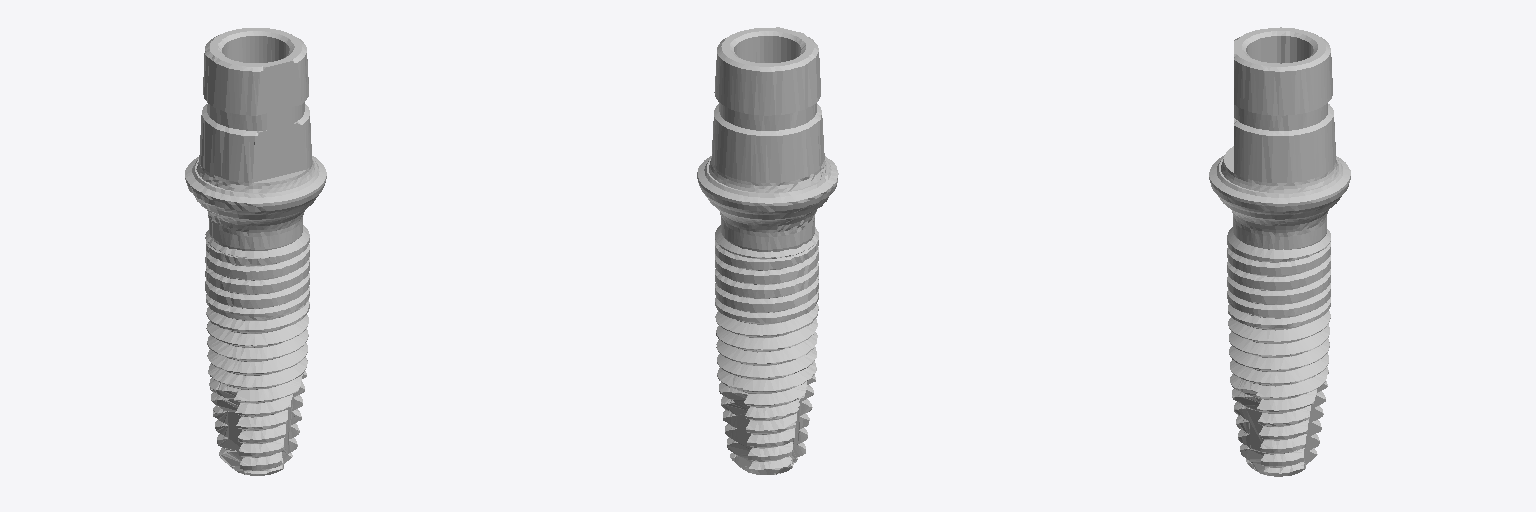
Rendered from screw.obj.
3 renders of one model, left to right at view 1: azimuth 30°, elevation 25°; view 2: azimuth 150°, elevation 25°; view 3: azimuth 270°, elevation 25°, orthographic.
Visible parts, largest first — view 1: screw; view 2: screw; view 3: screw.
Boxes of the visible parts, box(x1,y1,x2,y2) form: screw: box(185, 28, 326, 475); screw: box(697, 27, 838, 474); screw: box(1209, 27, 1350, 476).
Size of the model in its own units: 0.0054 by 0.0177 by 0.0054.